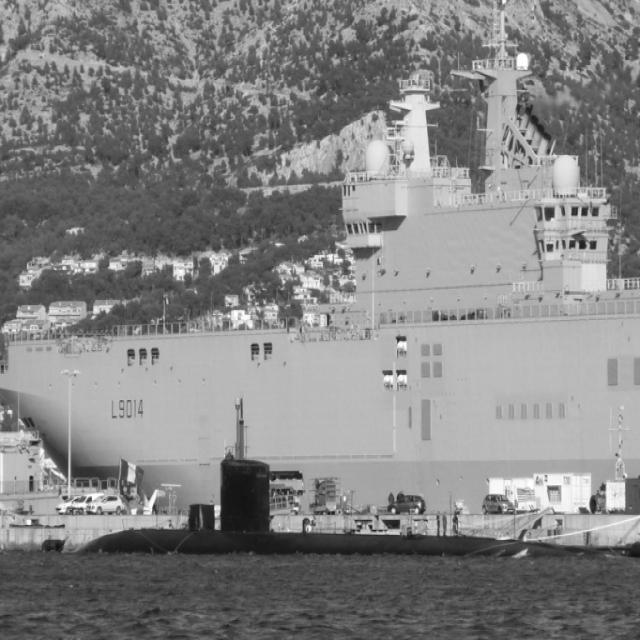submarine: (77, 454, 640, 556)
